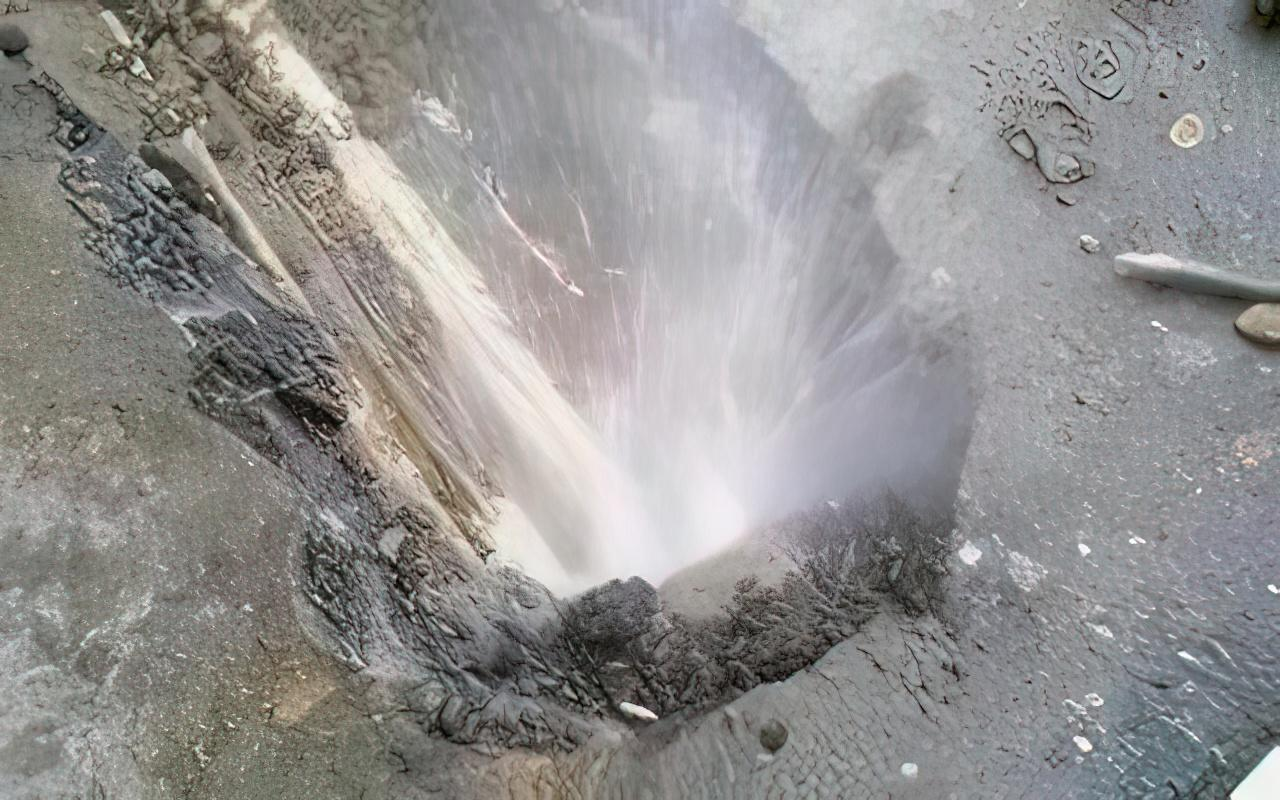pipe burst: (396, 10, 889, 620)
